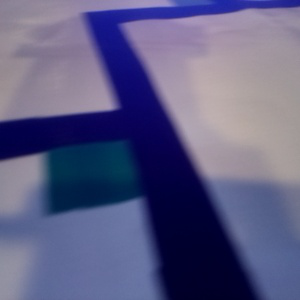bottom_left: (47, 118, 170, 214)
top_left: (168, 1, 220, 14)
